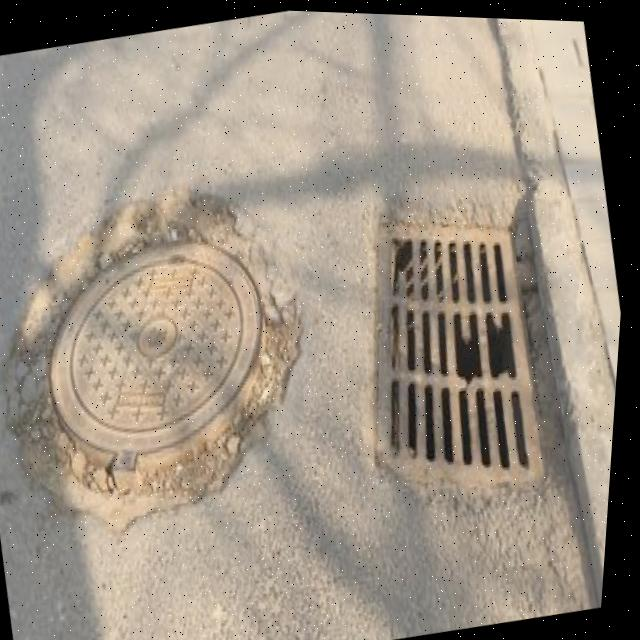manhole: (0, 160, 336, 533), (326, 163, 580, 512)
